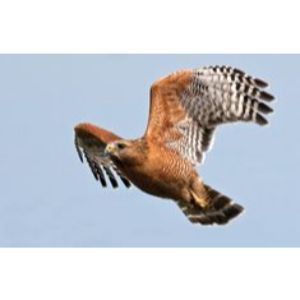hawk: (71, 64, 282, 234)
